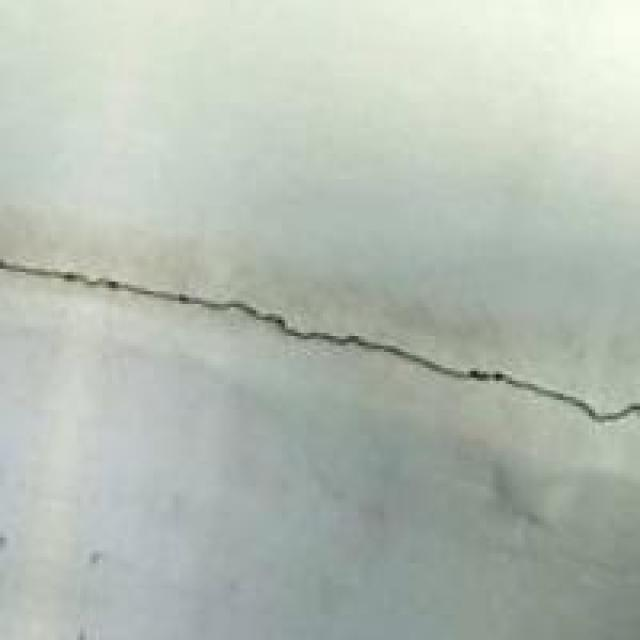Crack: (0, 215, 637, 454)
